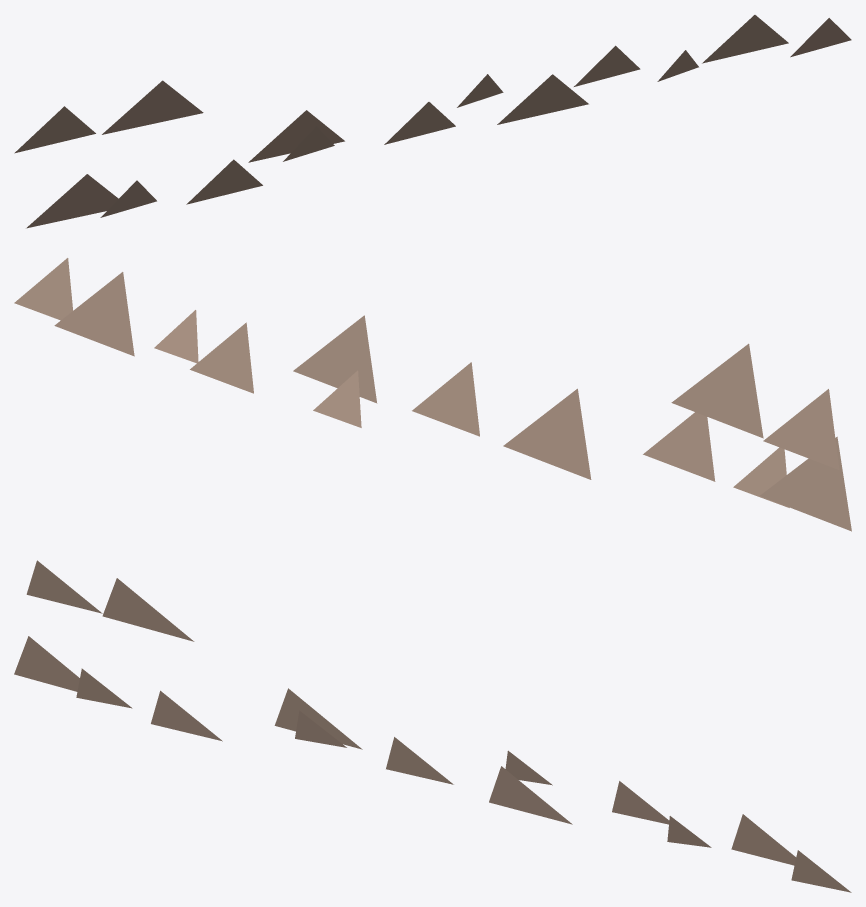
Rendered from prop_bulk_gen_0459_lod2.gltf.
3 renders of one model, top to bottom at view 1: azimuth 30°, elevation 25°; view 2: azimuth 150°, elevation 25°; view 3: azimuth 330°, elevation 25°, orthographic. The views are drawn at different scales.
Parts seen in each view (by area): view 1: prop_bulk_gen_0459_lod2; view 2: prop_bulk_gen_0459_lod2; view 3: prop_bulk_gen_0459_lod2.
Boxes of the visible parts, x1,y1,x2,y2 form: prop_bulk_gen_0459_lod2: (14, 15, 851, 228); prop_bulk_gen_0459_lod2: (14, 258, 851, 531); prop_bulk_gen_0459_lod2: (14, 560, 851, 892).
Bounding box in the file's own units: 0.7127 × 0.1132 × 0.0776.
